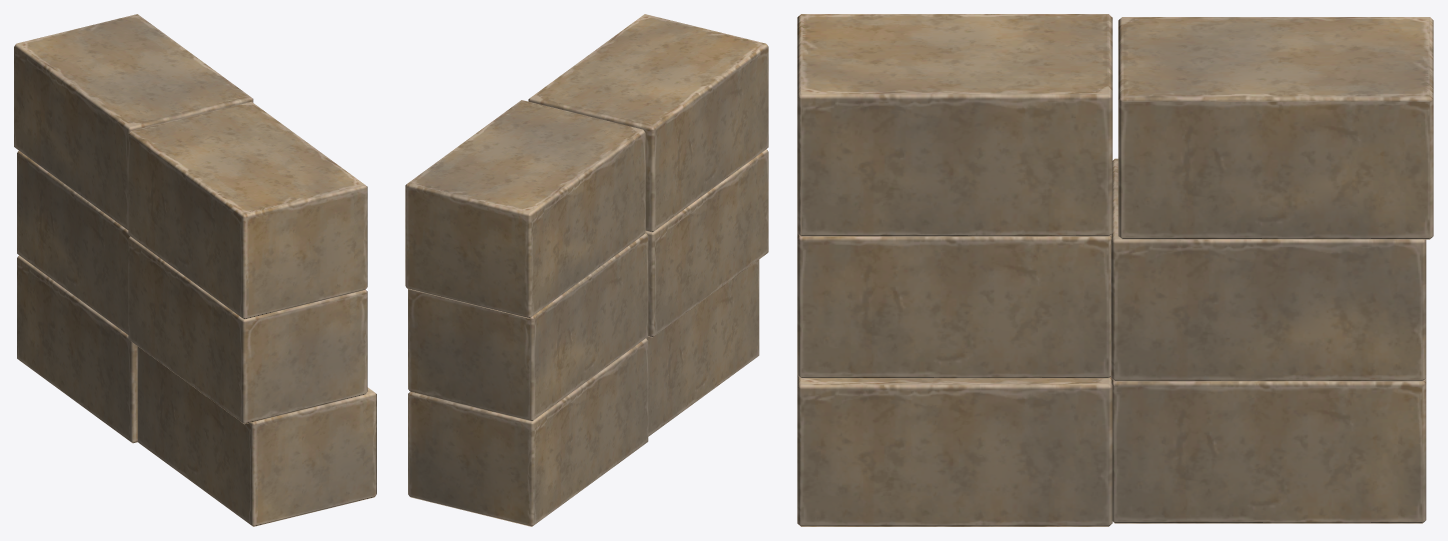
Rendered from SM_construction_block_03.gltf.
3 renders of one model, left to right at view 1: azimuth 30°, elevation 25°; view 2: azimuth 150°, elevation 25°; view 3: azimuth 270°, elevation 25°, orthographic. The views are drawn at different scales.
Parts seen in each view (by area): view 1: SM_construction_block_03; view 2: SM_construction_block_03; view 3: SM_construction_block_03.
Part boxes in pixels (x1,y1,x2,y2): SM_construction_block_03: [14, 14, 376, 526]; SM_construction_block_03: [405, 14, 768, 526]; SM_construction_block_03: [797, 14, 1433, 526].
Size of the model in its own units: 1.61 by 3.59 by 4.84.
1 material, 1 textured.
